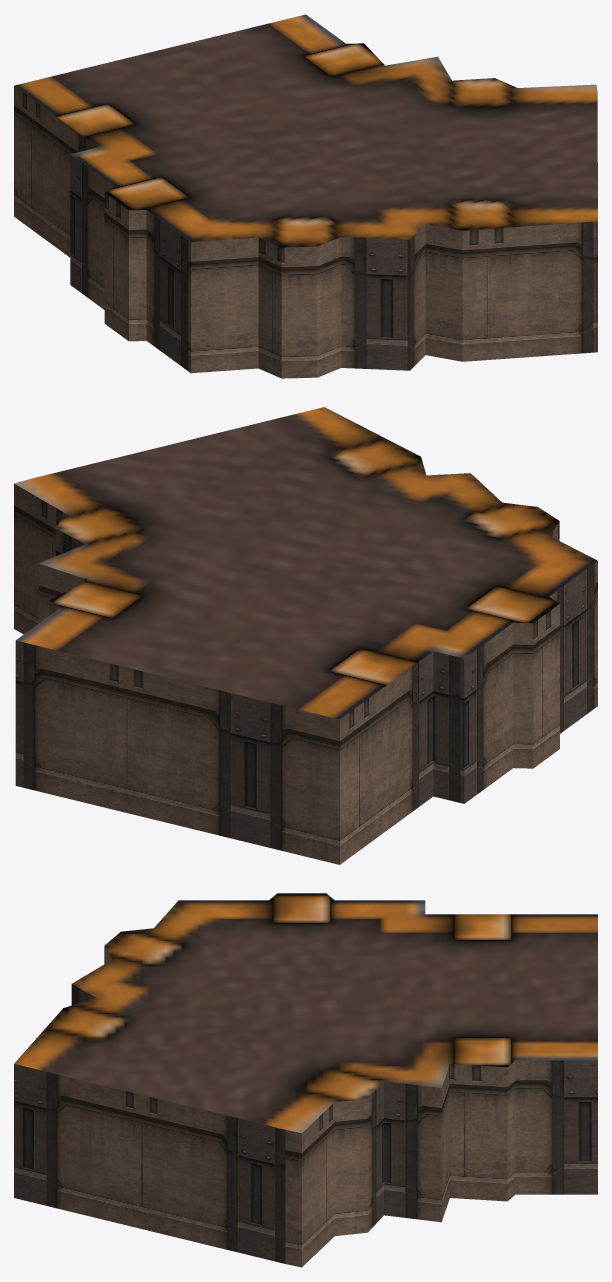
File: heavy_roof05.glb
3 views of the same model, one above another, from view 1: azimuth 30°, elevation 25°; view 2: azimuth 150°, elevation 25°; view 3: azimuth 270°, elevation 25° (orthographic). The views are drawn at different scales.
Visible parts, largest first — view 1: buildings/saxarba/heavy/heavy_roof05; view 2: buildings/saxarba/heavy/heavy_roof05; view 3: buildings/saxarba/heavy/heavy_roof05.
Part boxes in pixels (left/top/right/bottom): buildings/saxarba/heavy/heavy_roof05: left=14, top=14, right=597, bottom=378; buildings/saxarba/heavy/heavy_roof05: left=14, top=407, right=597, bottom=864; buildings/saxarba/heavy/heavy_roof05: left=14, top=893, right=597, bottom=1267.
Bounding box in the file's own units: 69 × 18 × 71.
